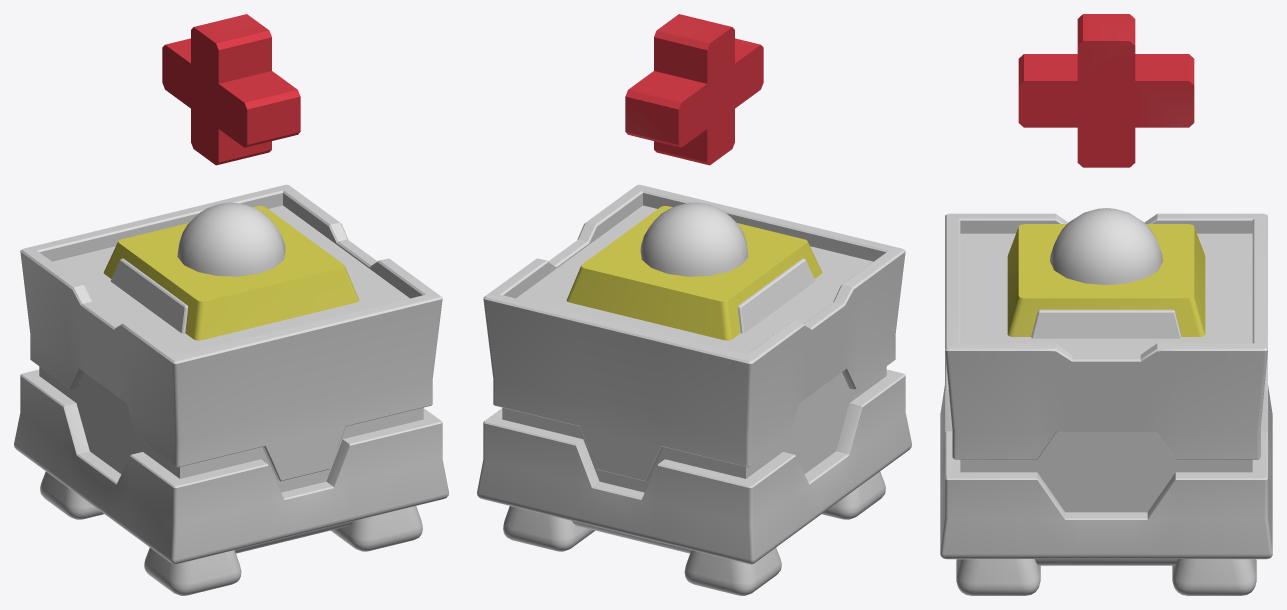
File: firstAidKid.fbx
3 renders of one model, left to right at view 1: azimuth 30°, elevation 25°; view 2: azimuth 150°, elevation 25°; view 3: azimuth 270°, elevation 25°, orthographic. The views are drawn at different scales.
Visible parts, largest first — view 1: body1, projection, body3, legs, sphere, body2; view 2: body1, projection, body3, legs, sphere, body2; view 3: body1, projection, body3, sphere, legs, body2, pillow.
Boxes of the visible parts, x1=… form: body1: x1=14, y1=184, x2=448, y2=564; projection: x1=162, y1=14, x2=300, y2=165; body3: x1=103, y1=206, x2=359, y2=340; legs: x1=40, y1=471, x2=422, y2=595; sphere: x1=177, y1=202, x2=285, y2=276; body2: x1=110, y1=258, x2=187, y2=333; body1: x1=477, y1=184, x2=911, y2=564; projection: x1=625, y1=14, x2=763, y2=165; body3: x1=566, y1=206, x2=822, y2=340; legs: x1=503, y1=471, x2=885, y2=595; sphere: x1=640, y1=202, x2=748, y2=276; body2: x1=738, y1=258, x2=815, y2=333; body1: x1=940, y1=213, x2=1272, y2=559; projection: x1=1018, y1=14, x2=1194, y2=167; body3: x1=1007, y1=224, x2=1205, y2=336; sphere: x1=1050, y1=208, x2=1162, y2=284; legs: x1=956, y1=559, x2=1256, y2=595; body2: x1=1031, y1=309, x2=1181, y2=338; pillow: x1=1035, y1=559, x2=1177, y2=565.
Bounding box in the file's own units: 228 × 385 × 228.
